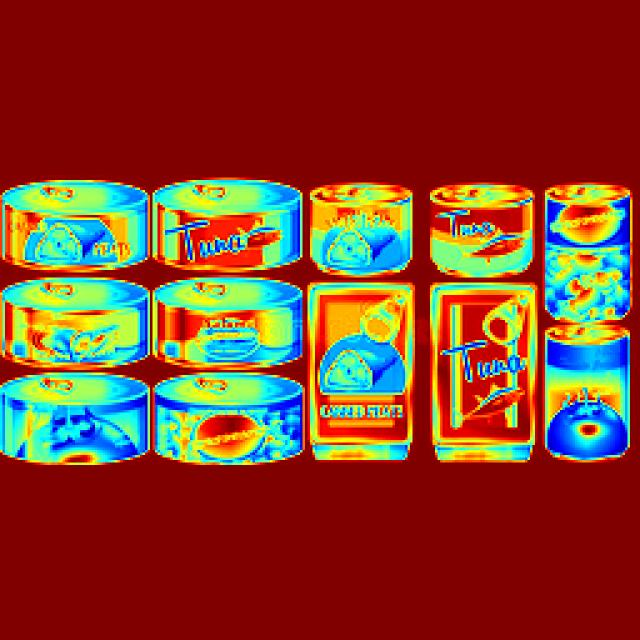Aluminium Food Cans: (306, 283, 408, 458), (429, 284, 534, 452), (2, 183, 168, 265), (530, 186, 626, 324), (152, 384, 301, 470), (2, 283, 161, 360), (153, 188, 316, 263), (1, 378, 142, 459), (551, 327, 640, 451), (150, 288, 317, 350), (297, 187, 418, 266), (422, 180, 528, 264)
